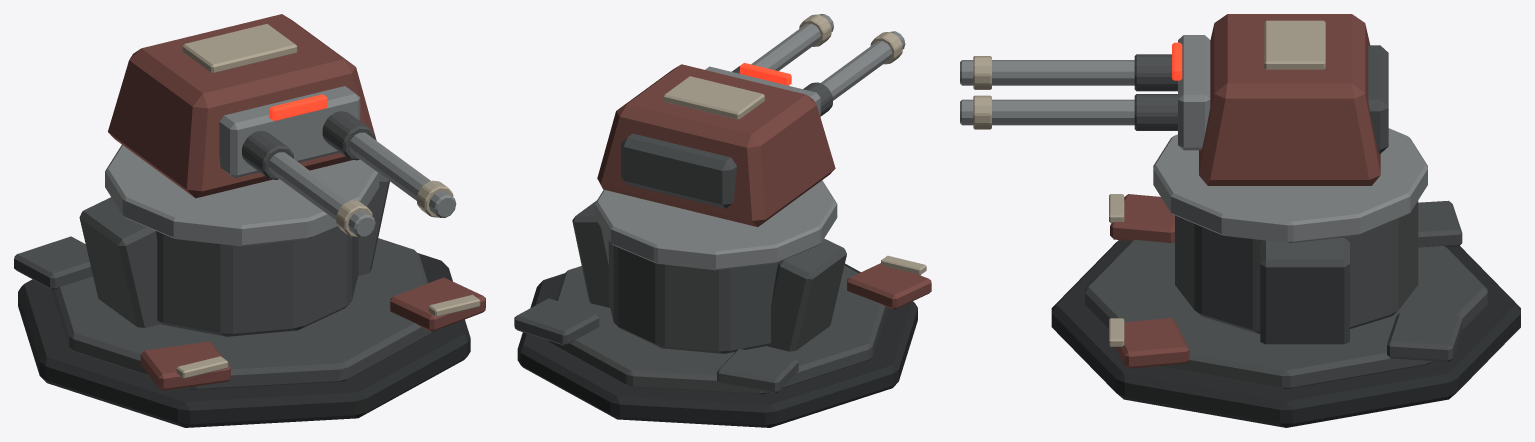
File: ff_en_sen_01_v1.glb
3 renders of one model, left to right at view 1: azimuth 30°, elevation 25°; view 2: azimuth 150°, elevation 25°; view 3: azimuth 270°, elevation 25°, orthographic. The views are drawn at different scales.
Parts seen in each view (by area): view 1: FF_EN_SEN_01_M_EnemyObsidianArmor_runtime, turret_yaw_M_EnemyCrimsonArmor_runtime, FF_EN_SEN_01_M_EnemyRecess_runtime, FF_EN_SEN_01_M_EnemyGunmetal_runtime, turret_yaw_M_EnemyGunmetal_runtime, FF_EN_SEN_01_M_EnemyCrimsonArmor_runtime, turret_yaw_M_EnemyMarking_runtime, turret_yaw_M_EnemyObsidianArmor_runtime, FF_EN_SEN_01_M_EnemyMarking_runtime, turret_yaw_M_EnemySignal_runtime; view 2: FF_EN_SEN_01_M_EnemyObsidianArmor_runtime, turret_yaw_M_EnemyCrimsonArmor_runtime, FF_EN_SEN_01_M_EnemyRecess_runtime, FF_EN_SEN_01_M_EnemyGunmetal_runtime, turret_yaw_M_EnemyObsidianArmor_runtime, turret_yaw_M_EnemyGunmetal_runtime, turret_yaw_M_EnemyMarking_runtime, FF_EN_SEN_01_M_EnemyCrimsonArmor_runtime, turret_yaw_M_EnemySignal_runtime, FF_EN_SEN_01_M_EnemyMarking_runtime; view 3: FF_EN_SEN_01_M_EnemyObsidianArmor_runtime, turret_yaw_M_EnemyCrimsonArmor_runtime, FF_EN_SEN_01_M_EnemyRecess_runtime, FF_EN_SEN_01_M_EnemyGunmetal_runtime, turret_yaw_M_EnemyGunmetal_runtime, FF_EN_SEN_01_M_EnemyCrimsonArmor_runtime, turret_yaw_M_EnemyObsidianArmor_runtime, turret_yaw_M_EnemyMarking_runtime, FF_EN_SEN_01_M_EnemyMarking_runtime.
Part boxes in pixels (x1,y1,x2,y2): FF_EN_SEN_01_M_EnemyObsidianArmor_runtime: [14, 174, 435, 389]; turret_yaw_M_EnemyCrimsonArmor_runtime: [108, 14, 376, 198]; FF_EN_SEN_01_M_EnemyRecess_runtime: [18, 253, 470, 427]; FF_EN_SEN_01_M_EnemyGunmetal_runtime: [105, 145, 379, 246]; turret_yaw_M_EnemyGunmetal_runtime: [219, 86, 456, 237]; FF_EN_SEN_01_M_EnemyCrimsonArmor_runtime: [140, 277, 485, 390]; turret_yaw_M_EnemyMarking_runtime: [182, 24, 453, 237]; turret_yaw_M_EnemyObsidianArmor_runtime: [242, 111, 374, 179]; FF_EN_SEN_01_M_EnemyMarking_runtime: [176, 294, 480, 378]; turret_yaw_M_EnemySignal_runtime: [269, 94, 327, 120]; FF_EN_SEN_01_M_EnemyObsidianArmor_runtime: [514, 200, 887, 394]; turret_yaw_M_EnemyCrimsonArmor_runtime: [597, 64, 835, 226]; FF_EN_SEN_01_M_EnemyRecess_runtime: [517, 263, 917, 427]; FF_EN_SEN_01_M_EnemyGunmetal_runtime: [595, 180, 837, 270]; turret_yaw_M_EnemyObsidianArmor_runtime: [621, 66, 832, 208]; turret_yaw_M_EnemyGunmetal_runtime: [705, 14, 905, 117]; turret_yaw_M_EnemyMarking_runtime: [663, 14, 902, 119]; FF_EN_SEN_01_M_EnemyCrimsonArmor_runtime: [847, 263, 931, 309]; turret_yaw_M_EnemySignal_runtime: [740, 63, 791, 85]; FF_EN_SEN_01_M_EnemyMarking_runtime: [881, 255, 926, 275]; FF_EN_SEN_01_M_EnemyObsidianArmor_runtime: [1085, 200, 1487, 388]; turret_yaw_M_EnemyCrimsonArmor_runtime: [1199, 14, 1380, 185]; FF_EN_SEN_01_M_EnemyRecess_runtime: [1051, 240, 1520, 427]; FF_EN_SEN_01_M_EnemyGunmetal_runtime: [1153, 128, 1427, 243]; turret_yaw_M_EnemyGunmetal_runtime: [960, 35, 1210, 150]; FF_EN_SEN_01_M_EnemyCrimsonArmor_runtime: [1110, 194, 1189, 368]; turret_yaw_M_EnemyObsidianArmor_runtime: [1134, 45, 1388, 153]; turret_yaw_M_EnemyMarking_runtime: [973, 20, 1325, 129]; FF_EN_SEN_01_M_EnemyMarking_runtime: [1109, 194, 1124, 346].
Size of the model in its own units: 5.5 by 3.75 by 6.57.
